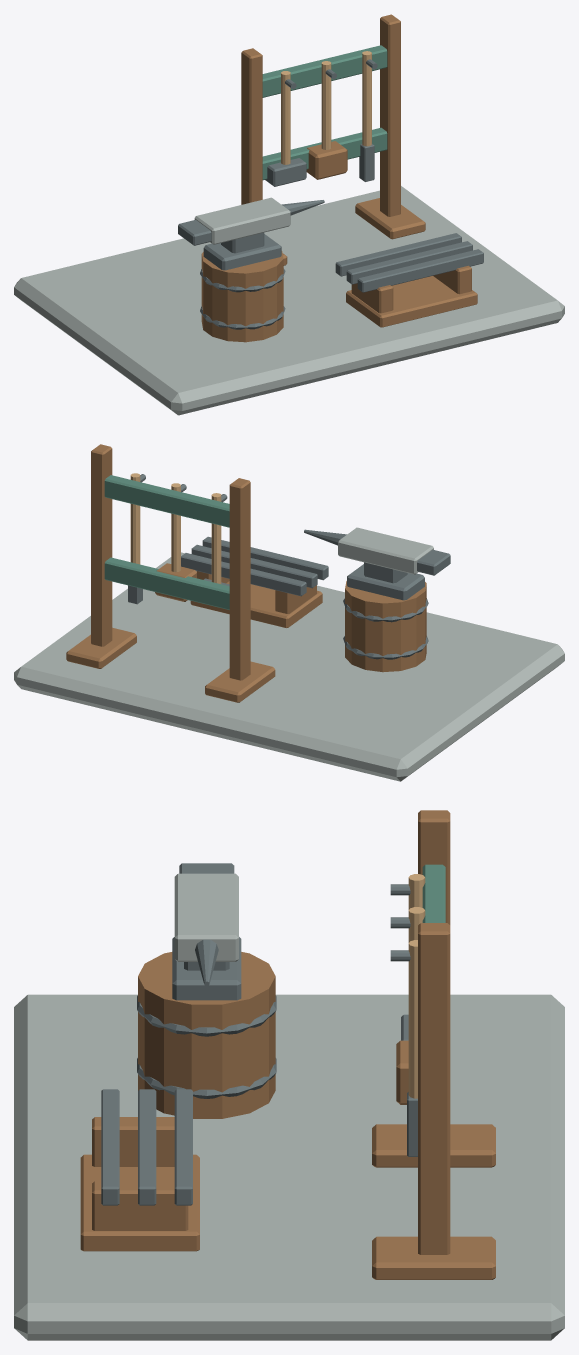
3 views of the same model, one above another, from view 1: azimuth 30°, elevation 25°; view 2: azimuth 150°, elevation 25°; view 3: azimuth 270°, elevation 25° (orthographic). The views are drawn at different scales.
Parts seen in each view (by area): view 1: village-smith-workcorner-01; view 2: village-smith-workcorner-01; view 3: village-smith-workcorner-01.
Part boxes in pixels (<box>): village-smith-workcorner-01: <box>14,14,564,415</box>; village-smith-workcorner-01: <box>14,444,564,781</box>; village-smith-workcorner-01: <box>14,810,564,1340</box>.
Bounding box in the file's own units: 3.3 × 1.81 × 2.4.
